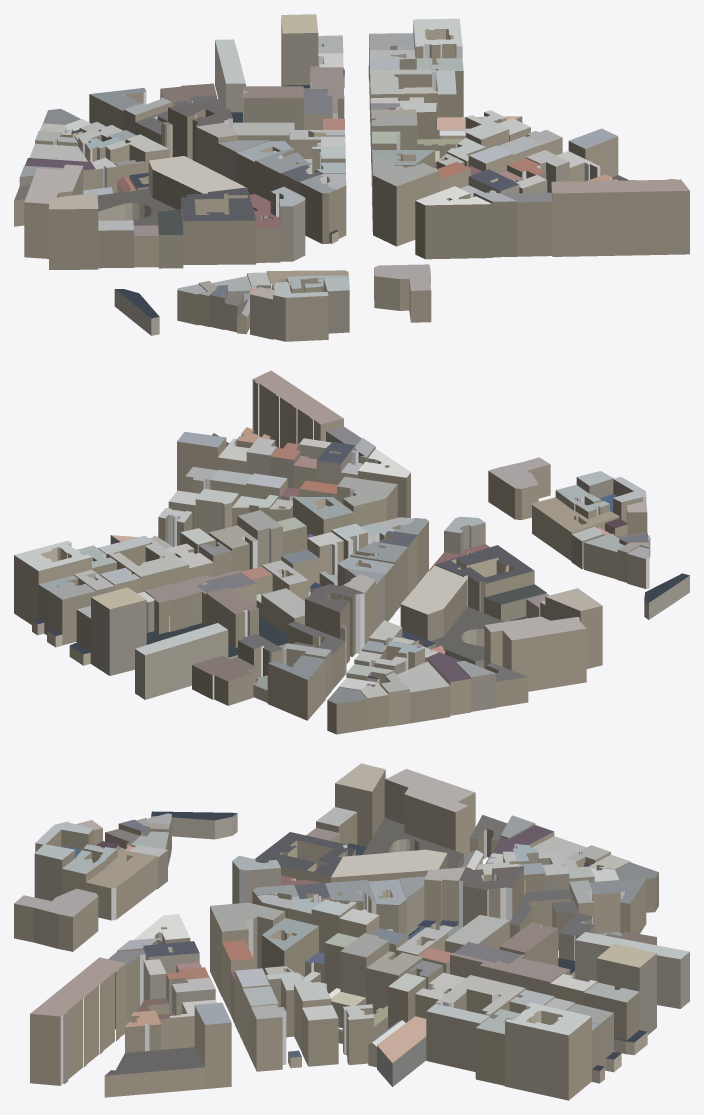
The picture shows the model from 3 angles, top to bottom: view 1: azimuth 30°, elevation 25°; view 2: azimuth 150°, elevation 25°; view 3: azimuth 270°, elevation 25°; orthographic projection. The views are drawn at different scales.
Parts seen in each view (by area): view 1: tuile; view 2: tuile; view 3: tuile.
Boxes of the visible parts, box(x1,y1,x2,y2) form: tuile: box(14, 14, 689, 341); tuile: box(14, 370, 689, 734); tuile: box(14, 763, 689, 1100).
Size of the model in its own units: 271 by 39.02 by 280.
